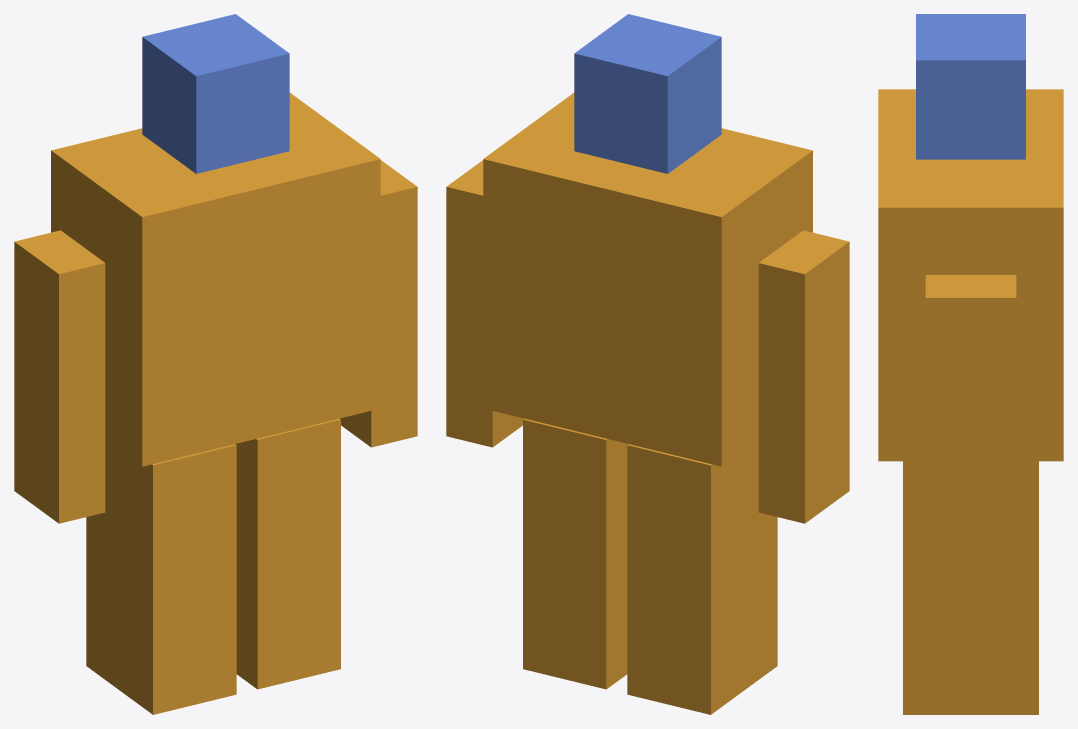
Rendered from person.glb.
3 renders of one model, left to right at view 1: azimuth 30°, elevation 25°; view 2: azimuth 150°, elevation 25°; view 3: azimuth 270°, elevation 25°, orthographic.
Parts seen in each view (by area): view 1: Torso, Cube.003, Cube.002, Cube.005, Head, Cube.004; view 2: Torso, Cube.003, Cube.002, Cube.005, Head, Cube.004; view 3: Torso, Cube.002, Cube.004, Head.
Boxes of the visible parts, x1=… form: Torso: x1=51, y1=92, x2=380, y2=466; Cube.003: x1=86, y1=440, x2=236, y2=714; Cube.002: x1=235, y1=418, x2=340, y2=689; Cube.005: x1=14, y1=230, x2=105, y2=523; Head: x1=142, y1=14, x2=289, y2=173; Cube.004: x1=340, y1=160, x2=417, y2=447; Torso: x1=483, y1=92, x2=812, y2=466; Cube.003: x1=627, y1=440, x2=777, y2=714; Cube.002: x1=523, y1=418, x2=628, y2=689; Cube.005: x1=758, y1=230, x2=849, y2=523; Head: x1=574, y1=14, x2=721, y2=173; Cube.004: x1=446, y1=160, x2=523, y2=447; Torso: x1=878, y1=89, x2=1063, y2=461; Cube.002: x1=903, y1=461, x2=1038, y2=714; Cube.004: x1=925, y1=275, x2=1016, y2=551; Head: x1=916, y1=14, x2=1025, y2=159.
Bounding box in the file's own units: 1.4 × 2.32 × 0.6164.
